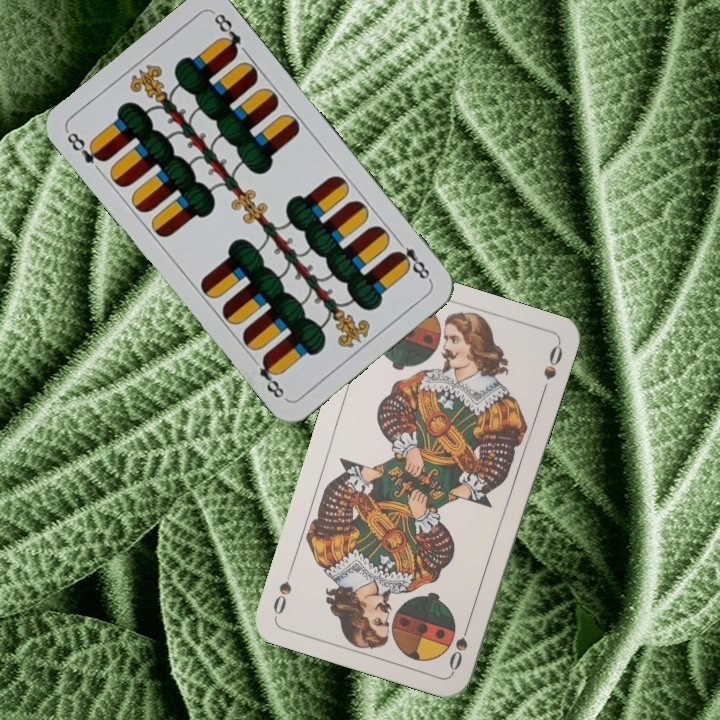E8: (390, 234, 434, 284), (62, 127, 109, 167)
SO: (445, 616, 473, 674)
